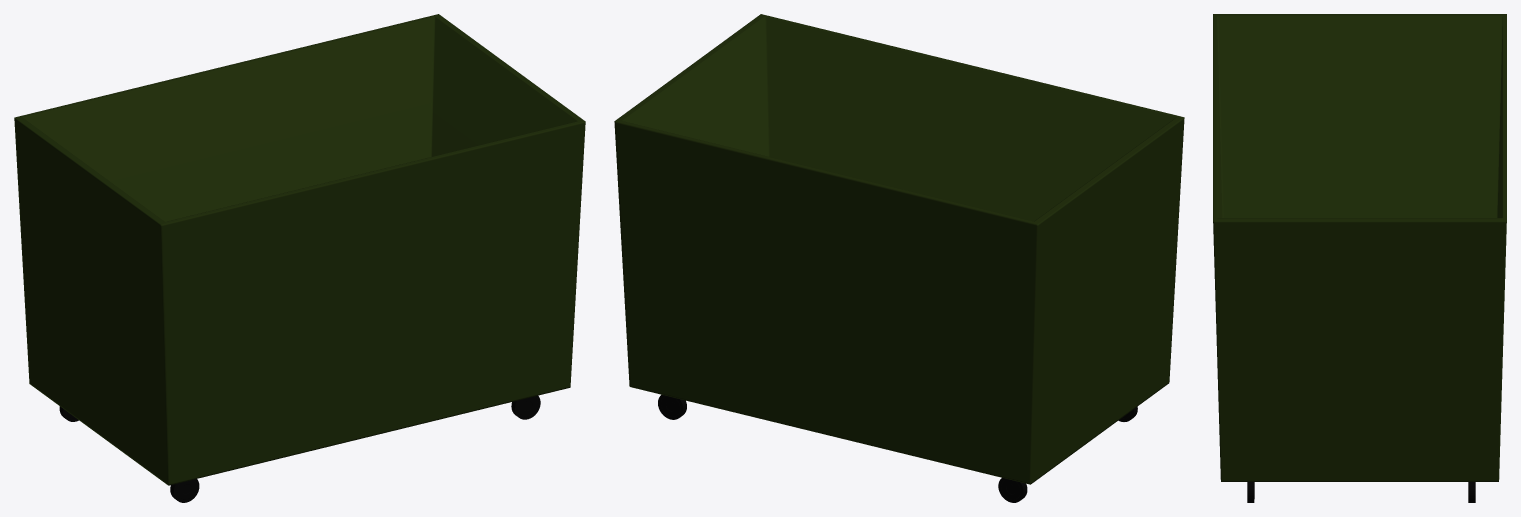
File: contenedor (1).fbx
3 renders of one model, left to right at view 1: azimuth 30°, elevation 25°; view 2: azimuth 150°, elevation 25°; view 3: azimuth 270°, elevation 25°, orthographic.
Visible parts, largest first — view 1: Cube.001; view 2: Cube.001; view 3: Cube.001.
Part boxes in pixels (<box>): Cube.001: <box>14,14,585,502</box>; Cube.001: <box>614,14,1184,502</box>; Cube.001: <box>1213,14,1506,502</box>.
Bounding box in the file's own units: 334 × 226 × 200.
